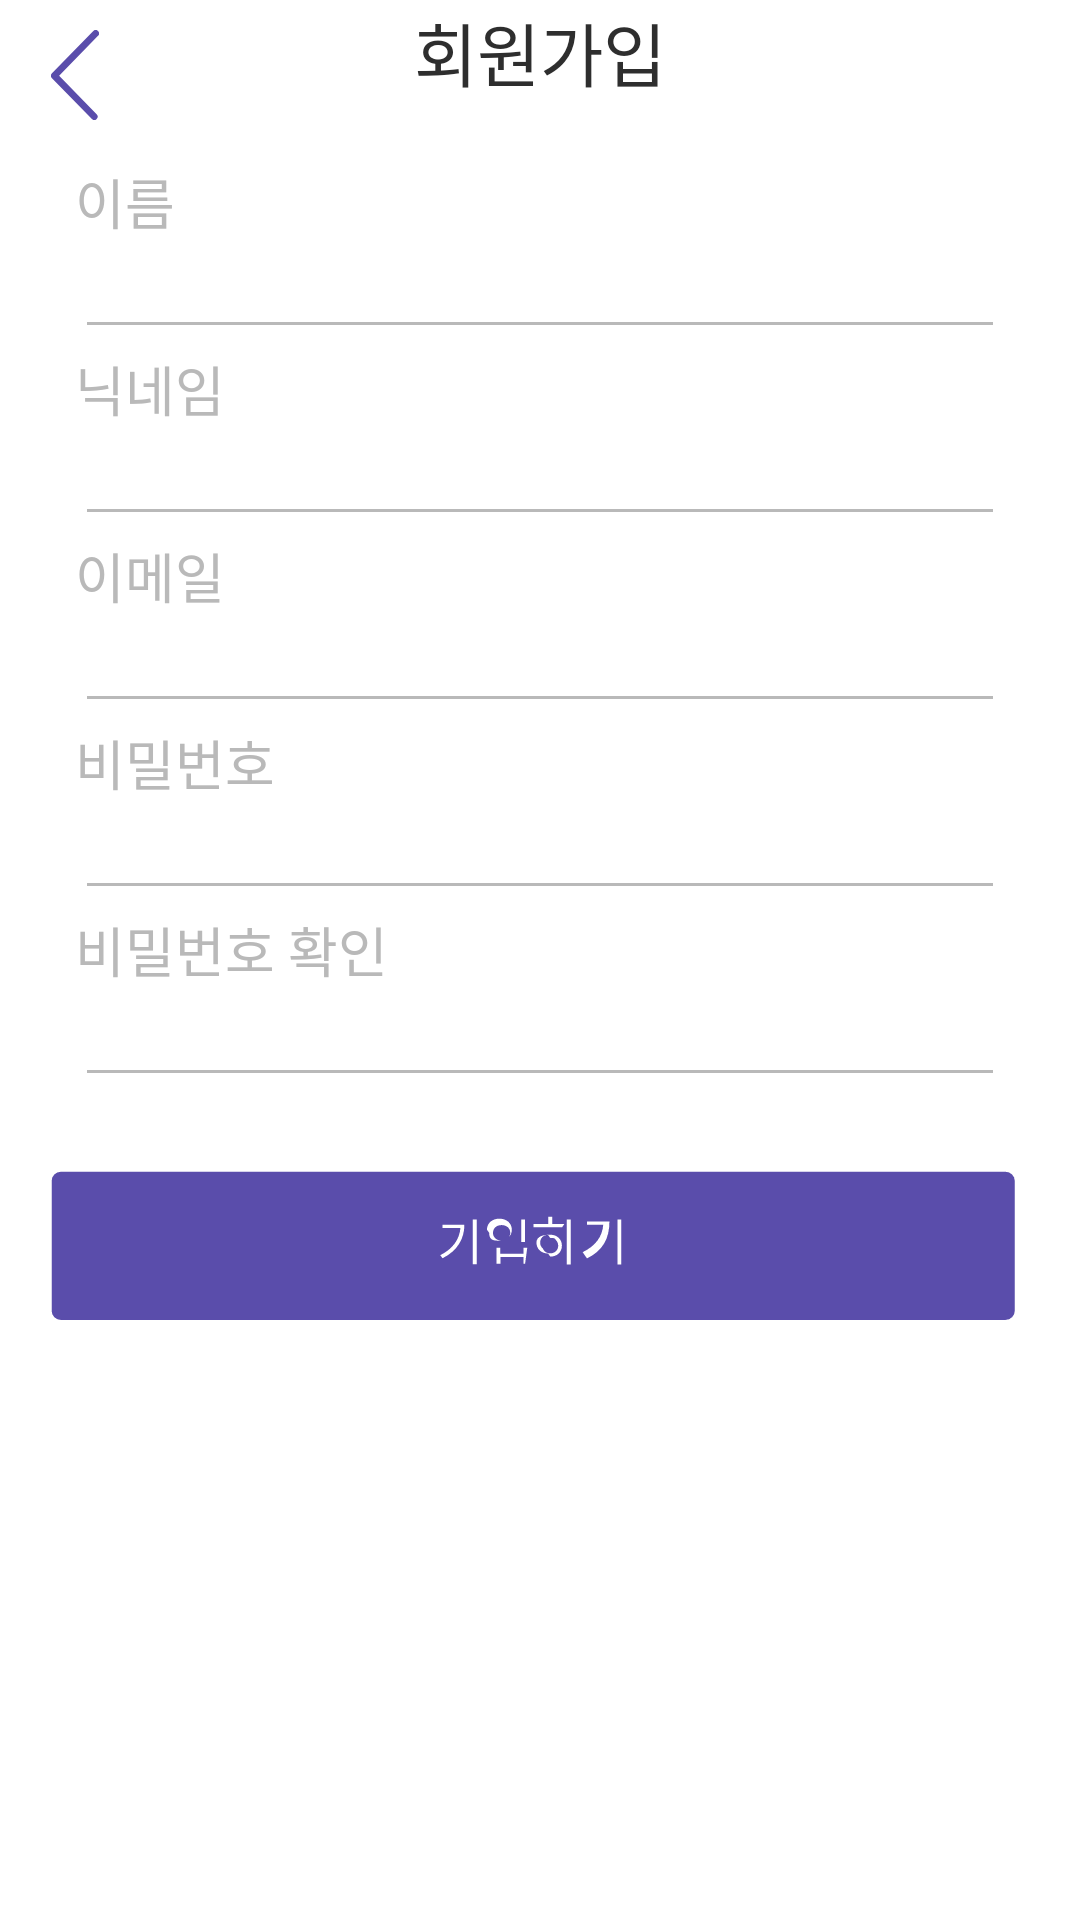

Point at icon controls on the screen. Image size 1080 x 1920, points as [x,y].
post backbtn: [75,75]
